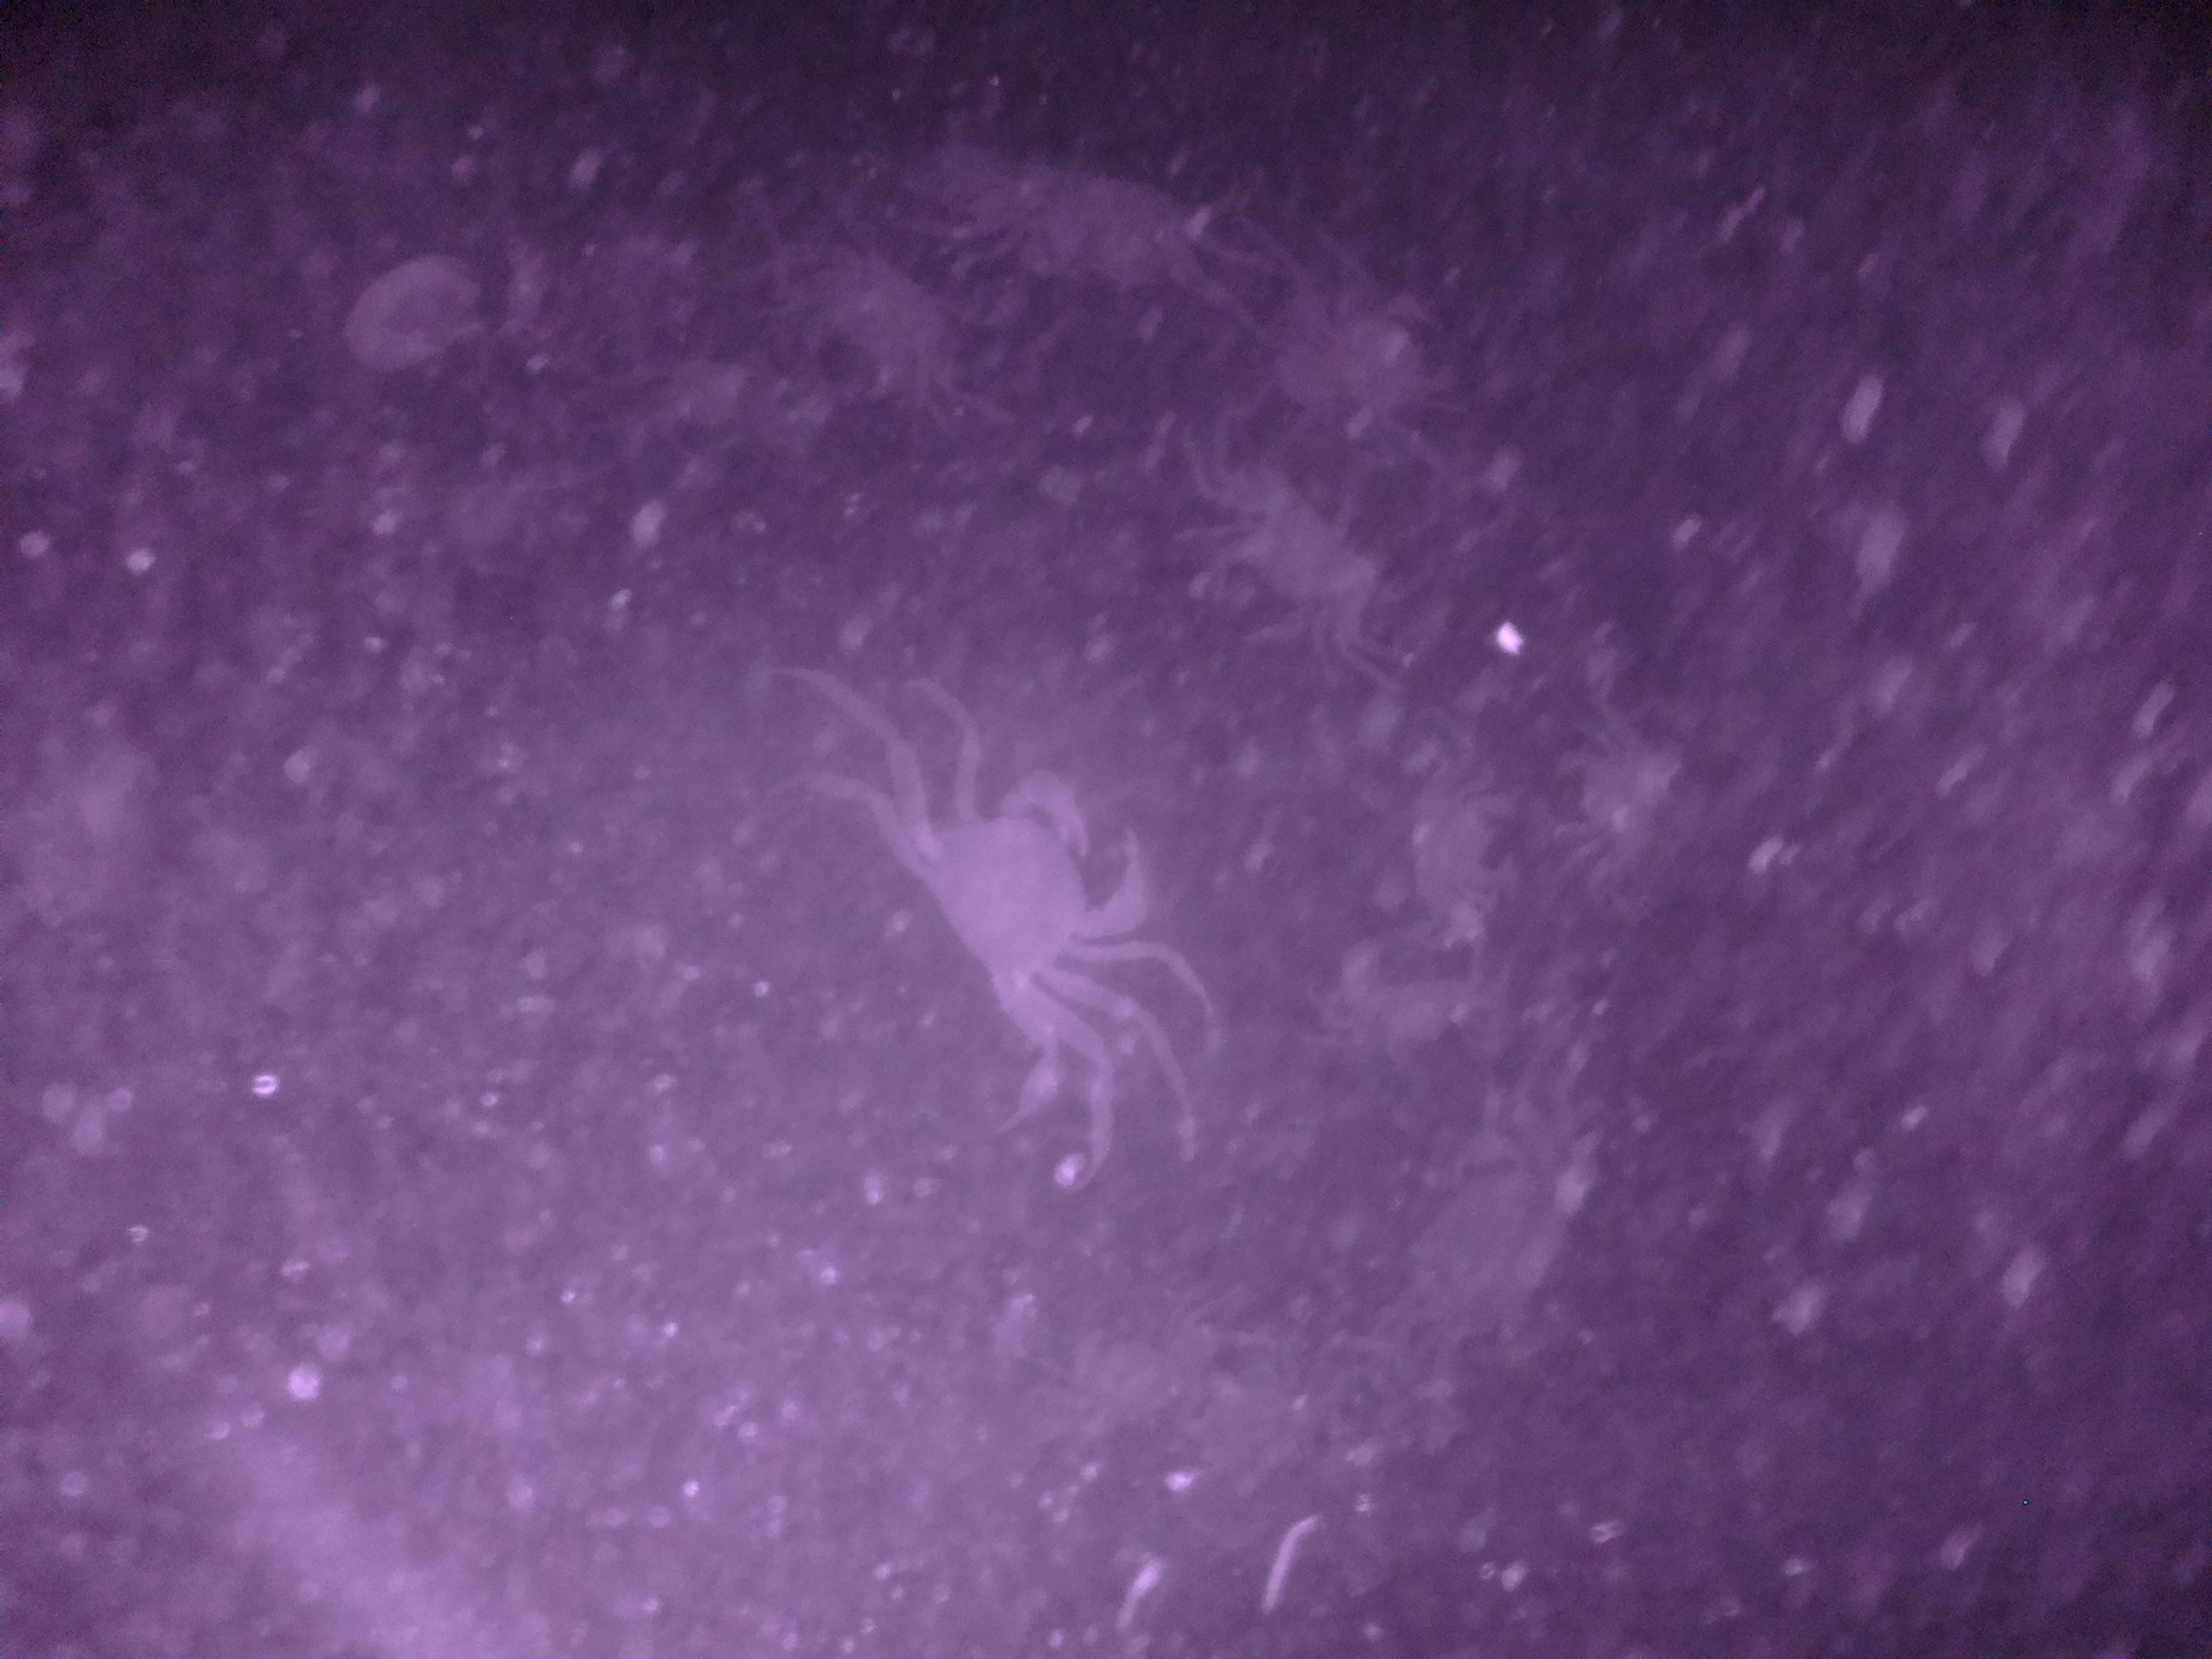Crab: (894, 751, 1160, 1019), (1190, 469, 1402, 660), (1392, 753, 1526, 936)
